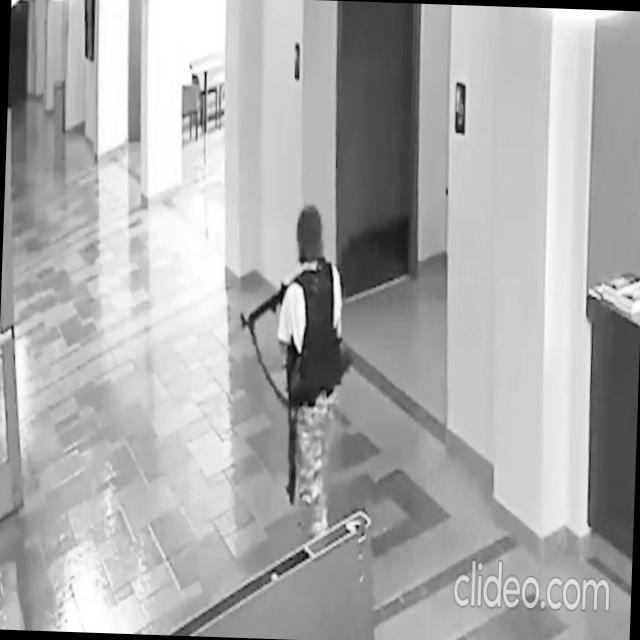gun: (238, 277, 294, 333), (282, 336, 300, 506)
person with a gun: (232, 201, 350, 548)
